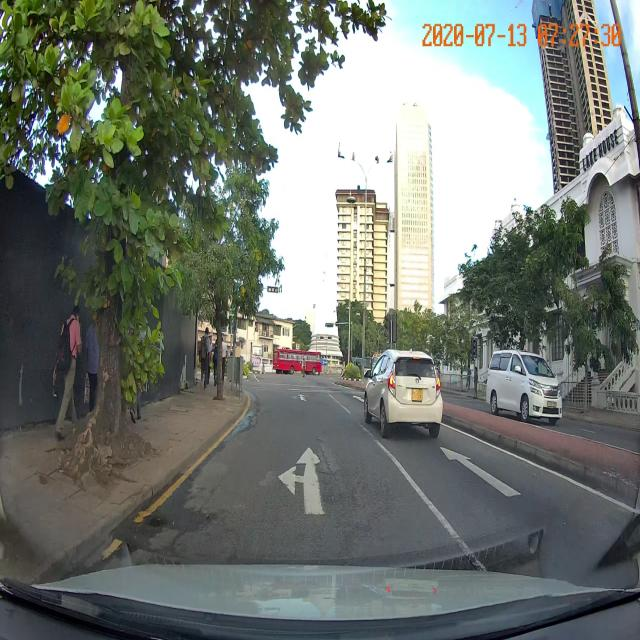Strelka vpered: (438, 444, 524, 500)
Strelka vpered - vlevo: (276, 444, 327, 516)
